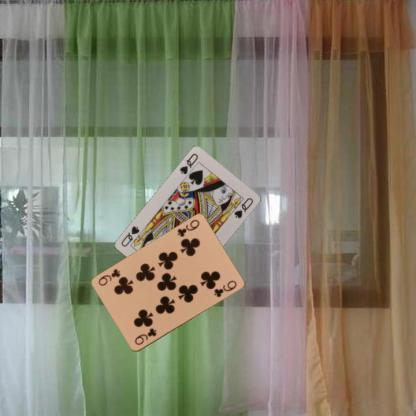9c: (132, 325, 158, 347), (174, 217, 200, 239)
Qs: (177, 150, 199, 176)
